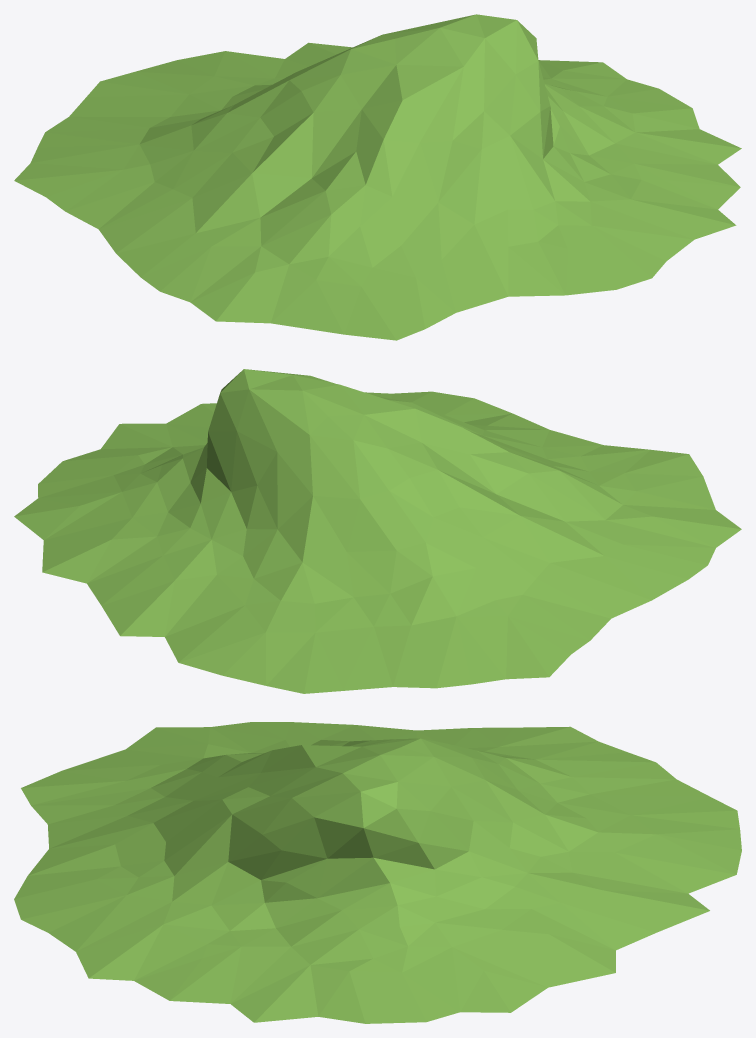
Rendered from MT_Mountain_M_a_23.fbx.
3 views of the same model, one above another, from view 1: azimuth 30°, elevation 25°; view 2: azimuth 150°, elevation 25°; view 3: azimuth 270°, elevation 25° (orthographic). The views are drawn at different scales.
Visible parts, largest first — view 1: MT_Mountain_M_a_23; view 2: MT_Mountain_M_a_23; view 3: MT_Mountain_M_a_23.
Boxes of the visible parts, box(x1,y1,x2,y2) form: MT_Mountain_M_a_23: box(14, 14, 741, 340); MT_Mountain_M_a_23: box(14, 369, 741, 693); MT_Mountain_M_a_23: box(14, 722, 741, 1023).
Size of the model in its own units: 4752 by 1060 by 4839.
